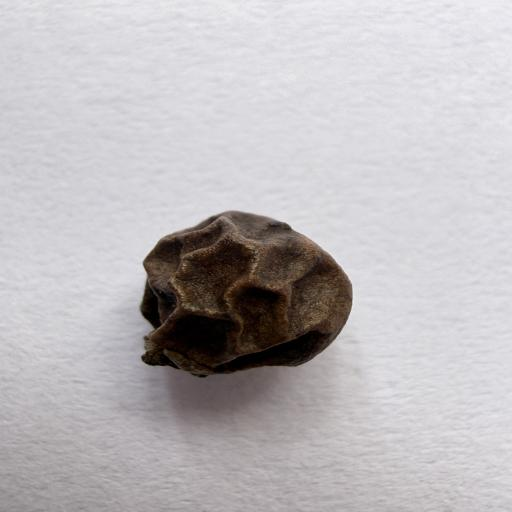Black_pepper: (76, 204, 398, 390)
